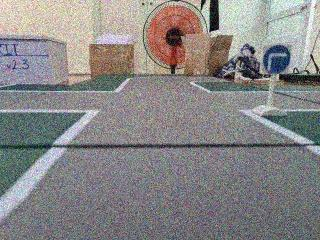right: (262, 43, 295, 78)
